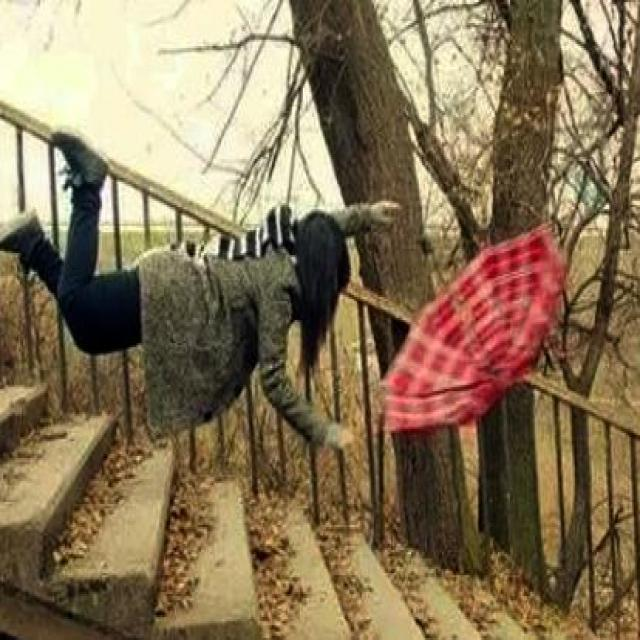fall: (29, 167, 402, 431)
